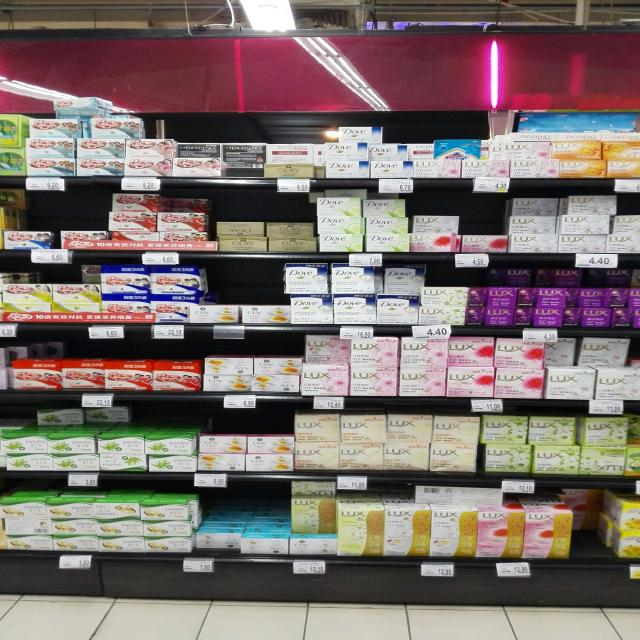unorganised: (514, 196, 616, 253), (497, 265, 637, 287), (482, 416, 575, 445), (291, 481, 338, 534), (545, 338, 630, 365), (36, 405, 133, 428), (417, 485, 506, 505), (306, 334, 350, 364), (383, 268, 424, 297), (52, 96, 103, 118), (415, 214, 458, 233), (195, 535, 239, 553), (371, 143, 408, 162), (164, 196, 206, 212), (81, 264, 102, 283)
